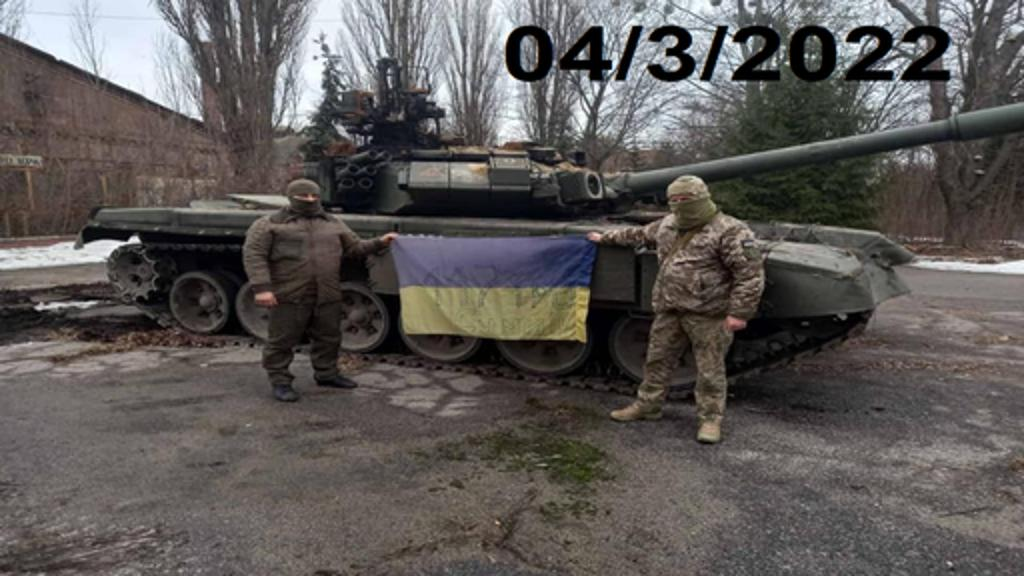TANK: (76, 80, 1020, 394)
